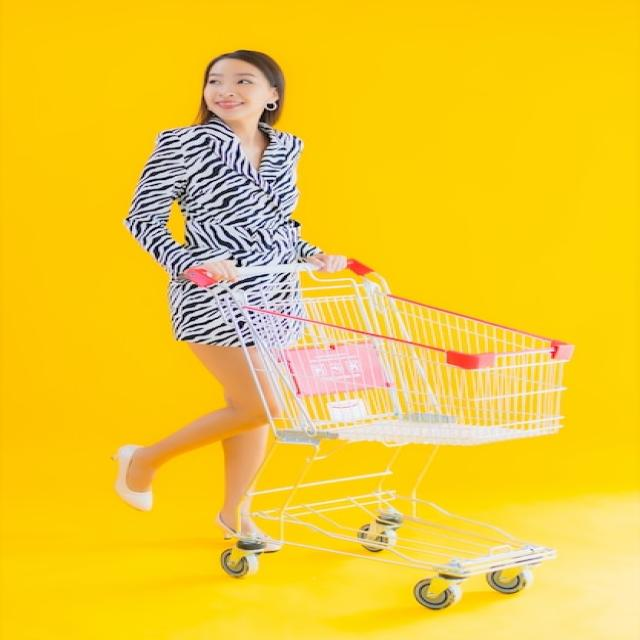Person: (111, 48, 348, 556)
